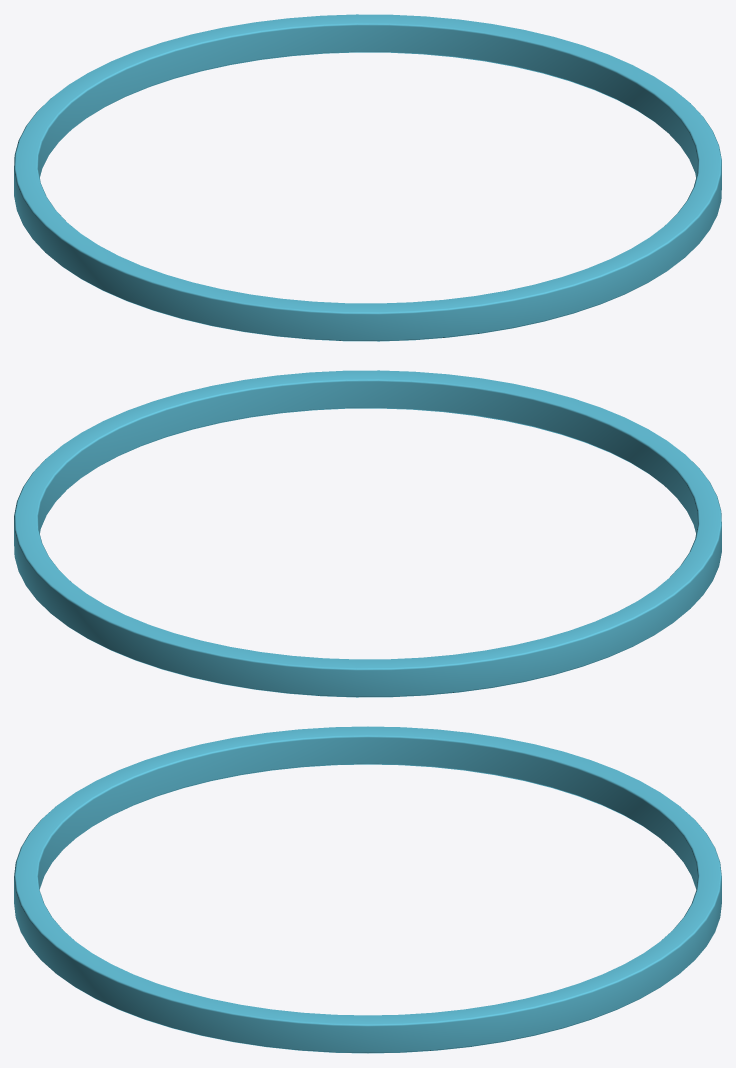
3 views of the same model, one above another, from view 1: azimuth 30°, elevation 25°; view 2: azimuth 150°, elevation 25°; view 3: azimuth 270°, elevation 25° (orthographic).
Parts seen in each view (by area): view 1: seal_body; view 2: seal_body; view 3: seal_body.
Boxes of the visible parts, <box> form: seal_body: <box>14,14,721,341</box>; seal_body: <box>14,370,721,697</box>; seal_body: <box>14,726,721,1053</box>.
Size of the model in its own units: 0.146 by 0.0067 by 0.146.
